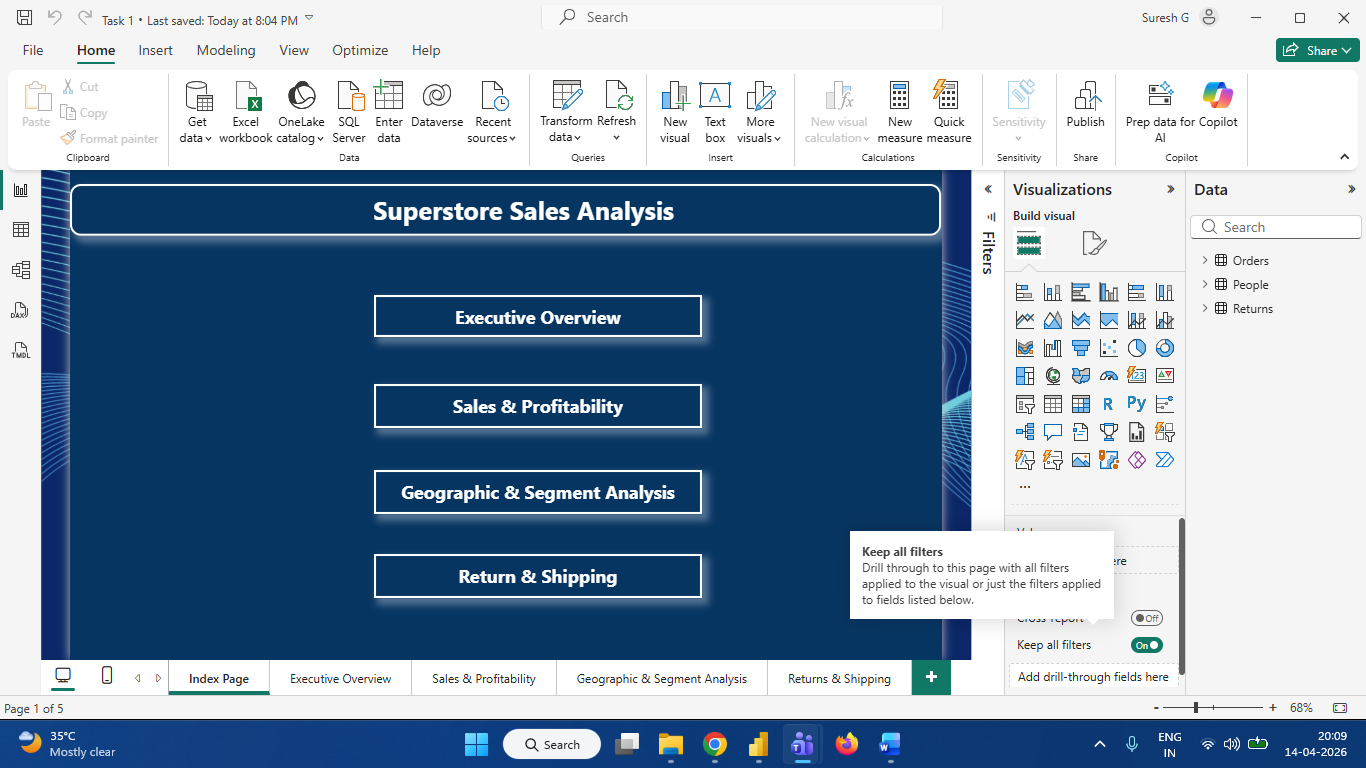

This screenshot's page, from the dashboard's own definition file:
{"tool":"powerbi","page":{"name":"Index Page ","canvas":[1280,720],"ordinal":0},"visuals":[{"type":"textbox","box":[0,20.6,1279.8,76.4],"z":0},{"type":"actionButton","box":[446.7,183.7,482,61.7],"z":1000},{"type":"actionButton","box":[446.7,314.4,482,64.7],"z":2000},{"type":"actionButton","box":[446.7,440.8,482,64.7],"z":3000},{"type":"actionButton","box":[446.7,564.2,482,64.7],"z":4000}]}

Visuals, with their boxes on the page's 1280x720 design canvas (x1, y1, x2, y2). These are canvas units, not pixel positions in the 1366x768 screenshot, which may show the page scaled, cropped or inside an application window:
textbox: <box>0,21,1280,97</box>
actionButton: <box>447,184,929,245</box>
actionButton: <box>447,314,929,379</box>
actionButton: <box>447,441,929,506</box>
actionButton: <box>447,564,929,629</box>
